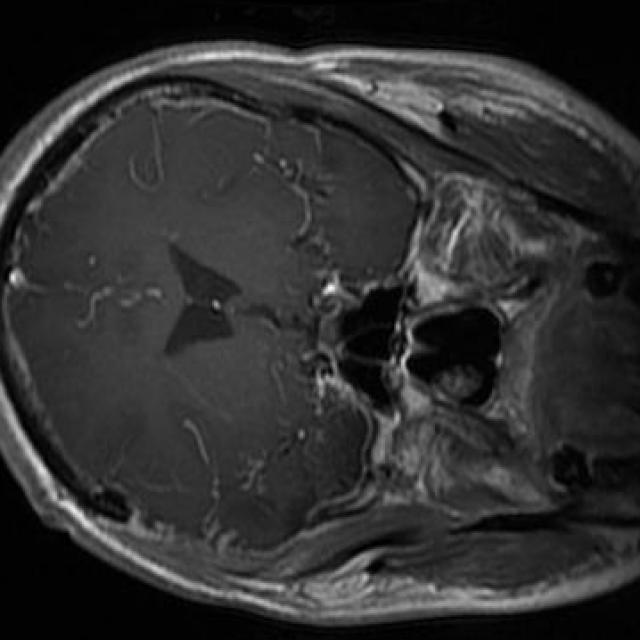glioma: (210, 387, 373, 551)
